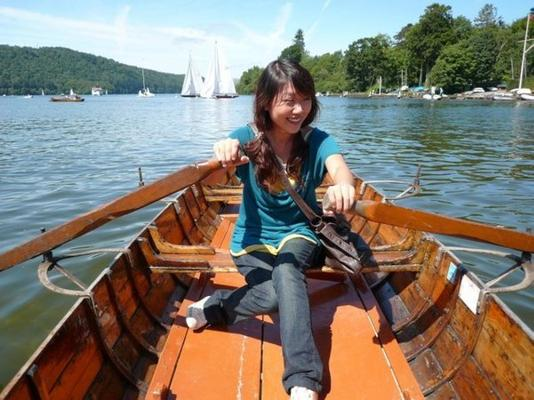person: (186, 60, 357, 400)
